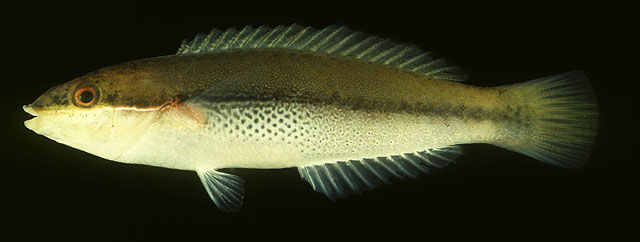fish: (22, 22, 600, 214)
